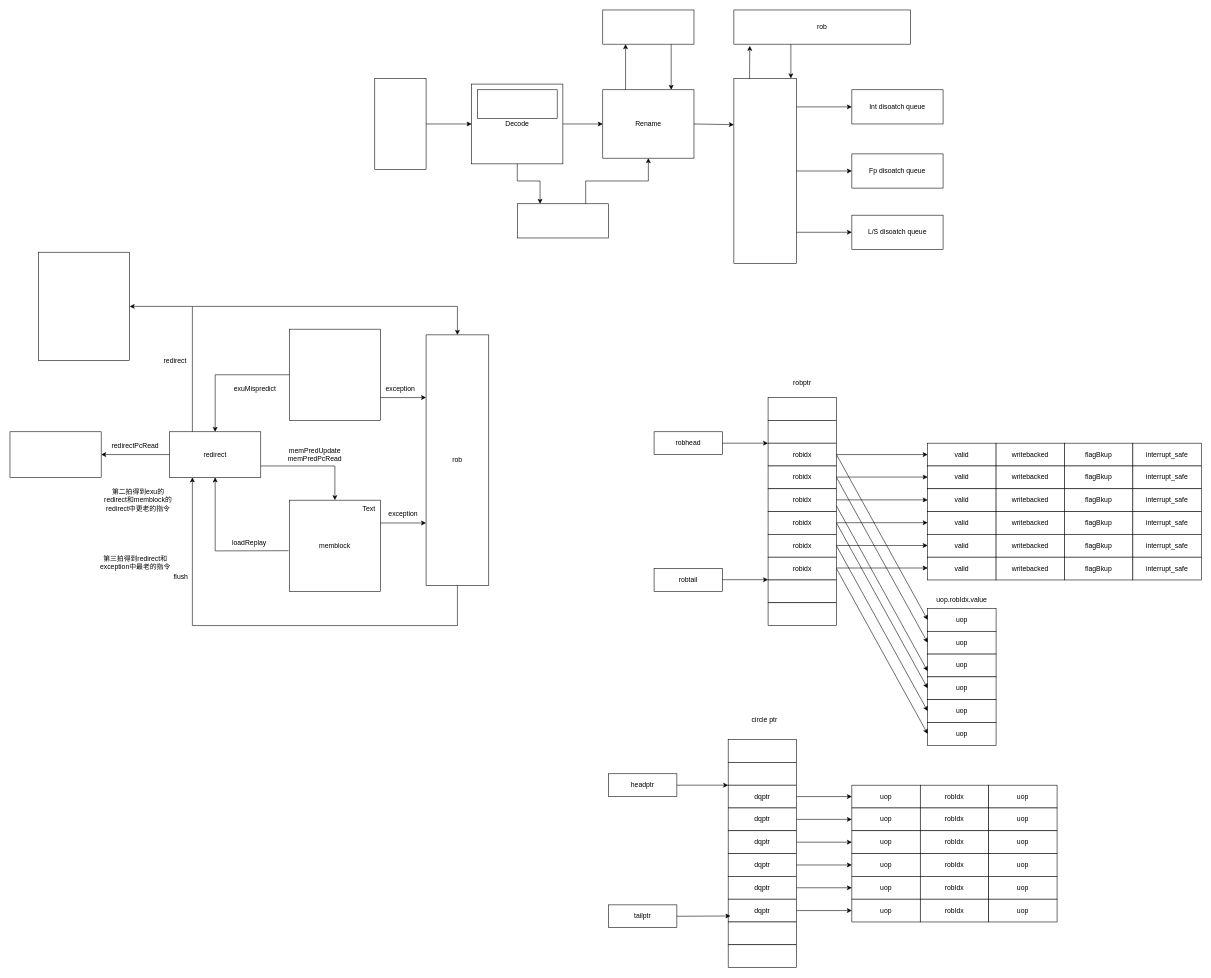
This 1211x978 diagram has some shape labels left out. Each missing label, with the centre of its shape:
Dispatch: (x=765, y=171)
dispatch queue等有存储能力，需要将新指令刷新的模块: (x=84, y=306)
exublock: (x=334, y=374)
Freelist: (x=648, y=26)
ftq: (x=55, y=454)
instruction buffer: (x=400, y=124)
Instruction fusion: (x=517, y=103)
rename table: (x=562, y=220)
